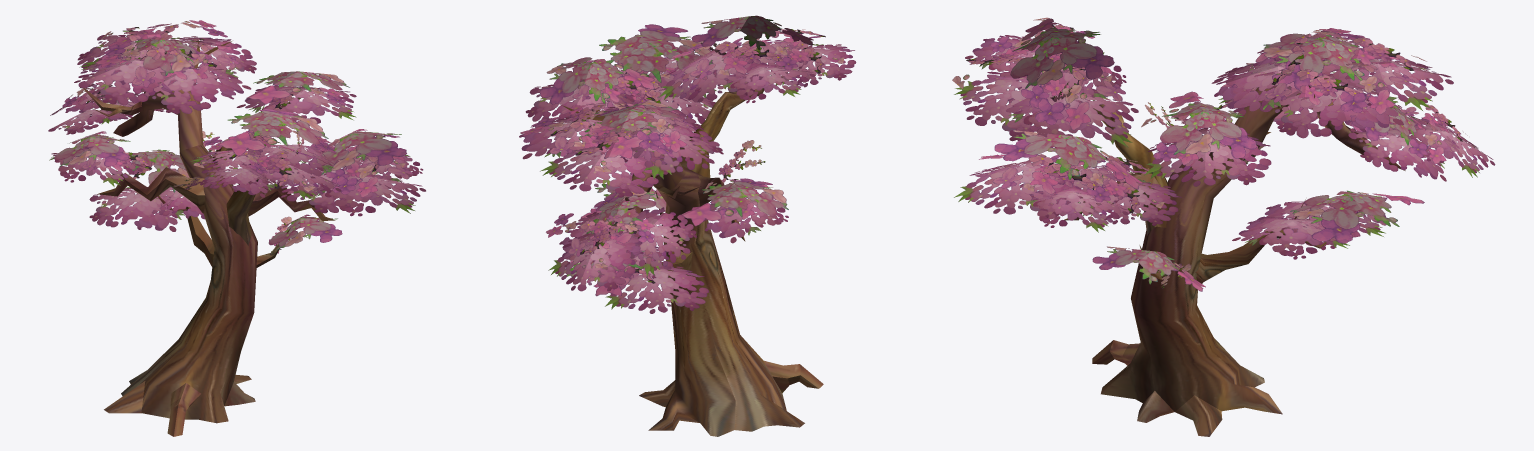
Rendered from taohuashu_jiaowai_D012.FBX.
3 views of the same model, side by side, from view 1: azimuth 30°, elevation 25°; view 2: azimuth 150°, elevation 25°; view 3: azimuth 270°, elevation 25° (orthographic). The views are drawn at different scales.
Visible parts, largest first — view 1: taohuashu_jiaowai_D012; view 2: taohuashu_jiaowai_D012; view 3: taohuashu_jiaowai_D012.
Boxes of the visible parts, left/top/right/bottom form: taohuashu_jiaowai_D012: left=48, top=20, right=425, bottom=436; taohuashu_jiaowai_D012: left=519, top=15, right=856, bottom=436; taohuashu_jiaowai_D012: left=952, top=17, right=1495, bottom=436.
Size of the model in its own units: 260 by 244 by 354.
